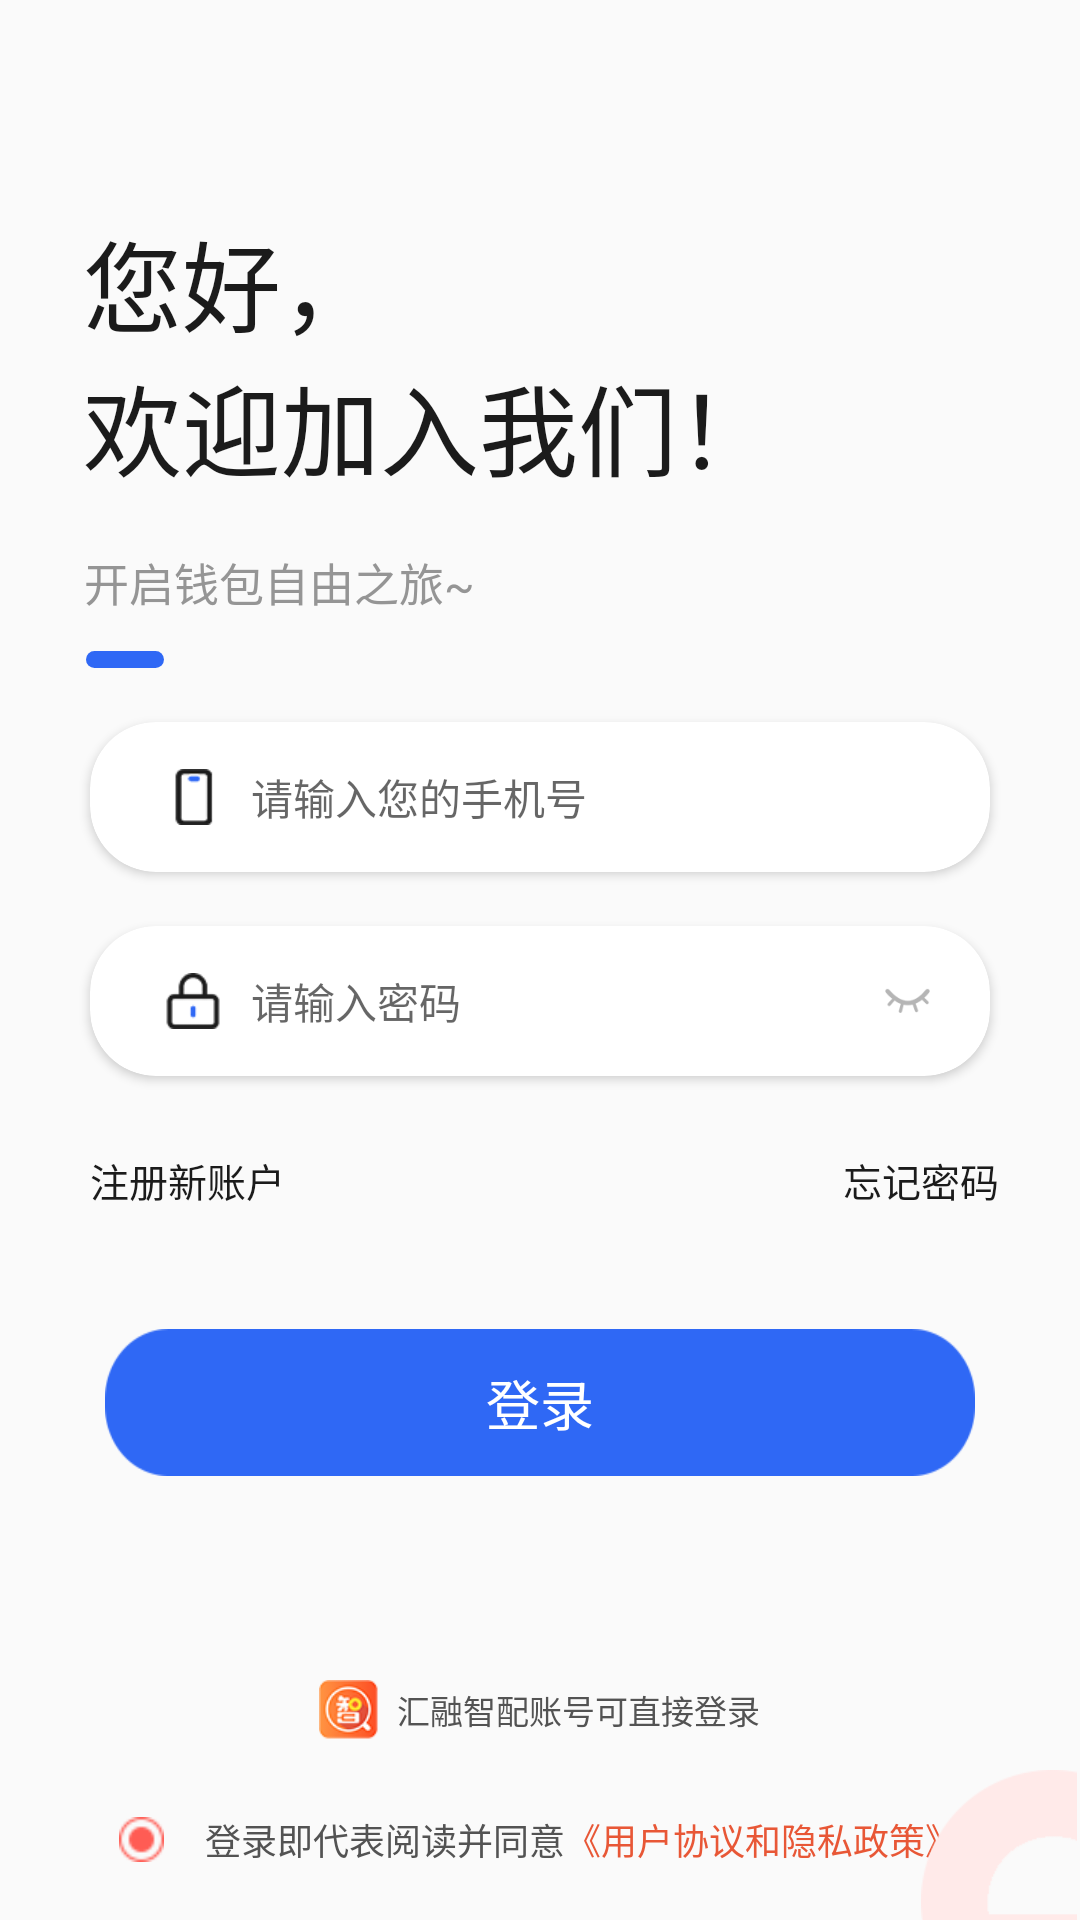

Icons on this 1080w x 1920h Android screen, each with the point to tap as (x,y):
denglu password: (193,1001)
denglu phone: (194,797)
login checkbox: (141,1839)
